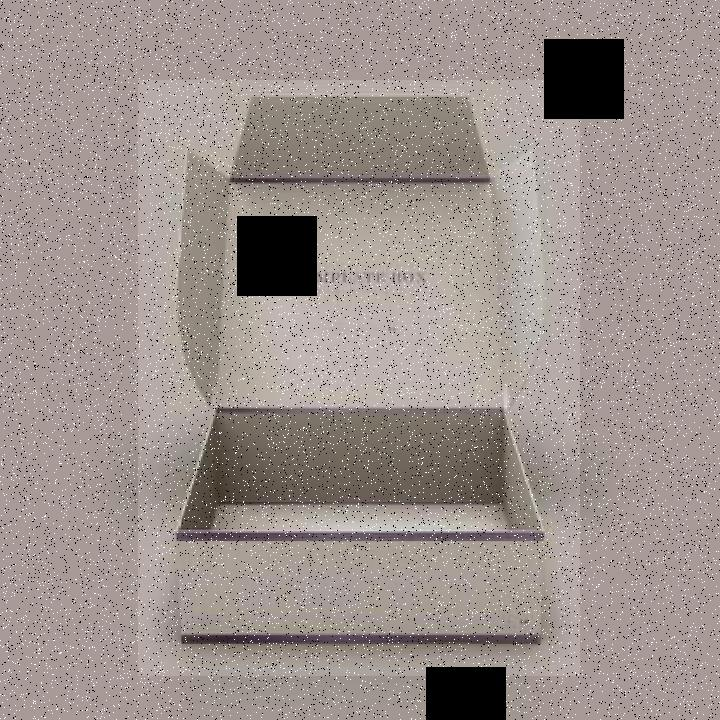box: (138, 80, 580, 676)
